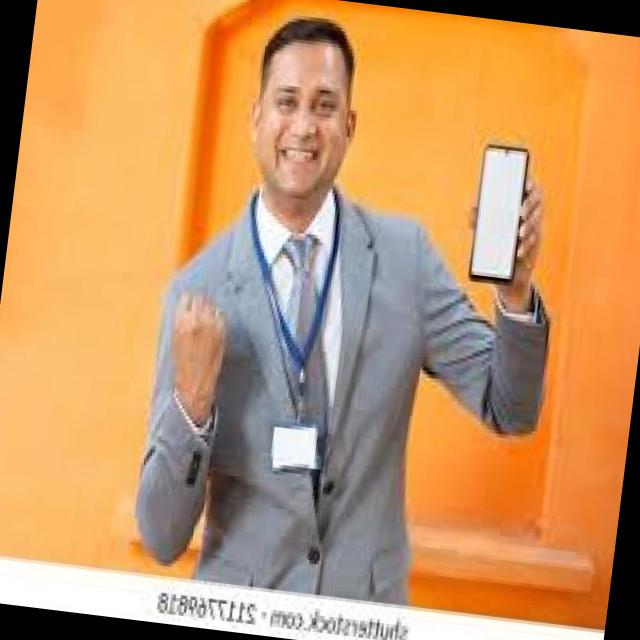id_card: (217, 188, 356, 479)
